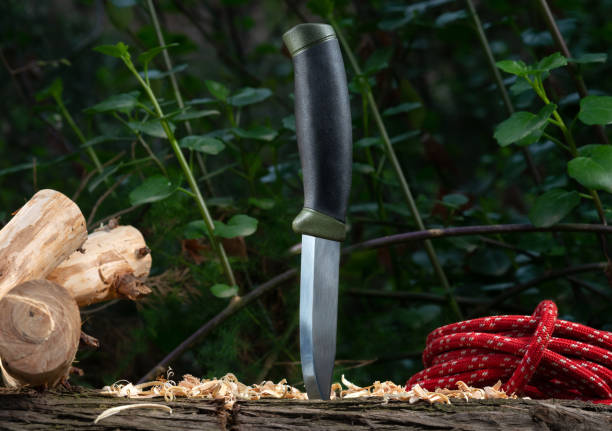knife: (278, 20, 356, 400)
